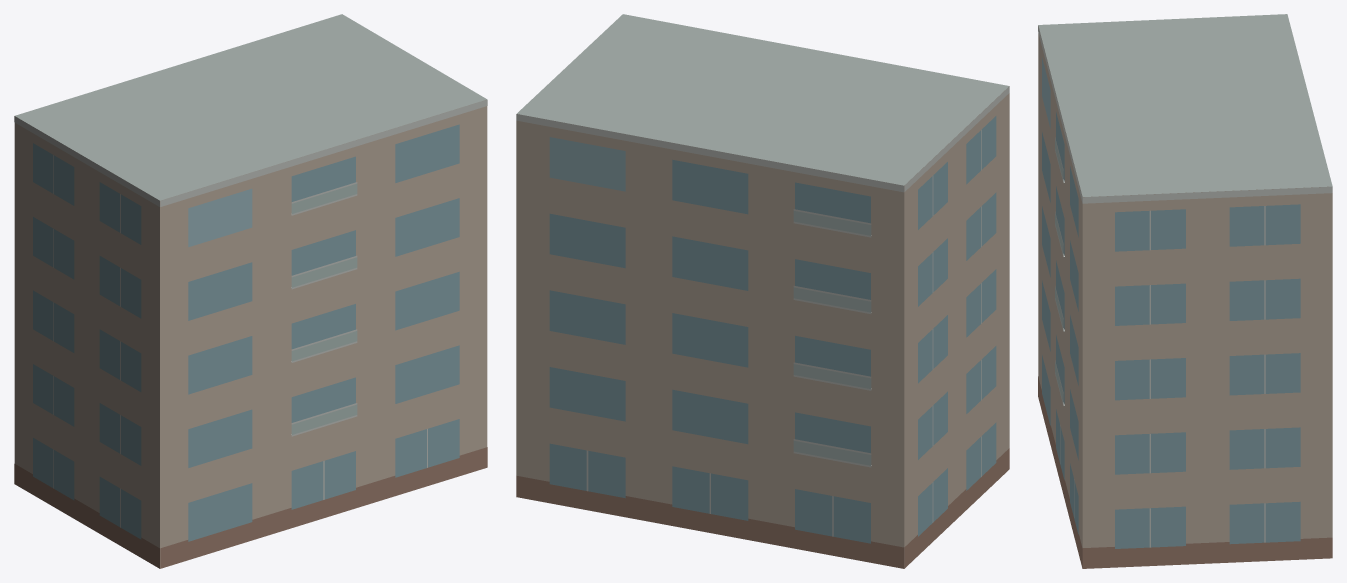
Rendered from survey-upis-32854394.glb.
The picture shows the model from 3 angles, left to right: view 1: azimuth 30°, elevation 25°; view 2: azimuth 150°, elevation 25°; view 3: azimuth 270°, elevation 25°; orthographic projection. The views are drawn at different scales.
Visible parts, largest first — view 1: survey-upis-32854394.tmp; view 2: survey-upis-32854394.tmp; view 3: survey-upis-32854394.tmp.
Boxes of the visible parts, x1,y1,x2,y2 form: survey-upis-32854394.tmp: (14, 14, 487, 568); survey-upis-32854394.tmp: (516, 14, 1009, 568); survey-upis-32854394.tmp: (1038, 14, 1332, 568).
Bounding box in the file's own units: 14.59 × 13.8 × 9.92.
